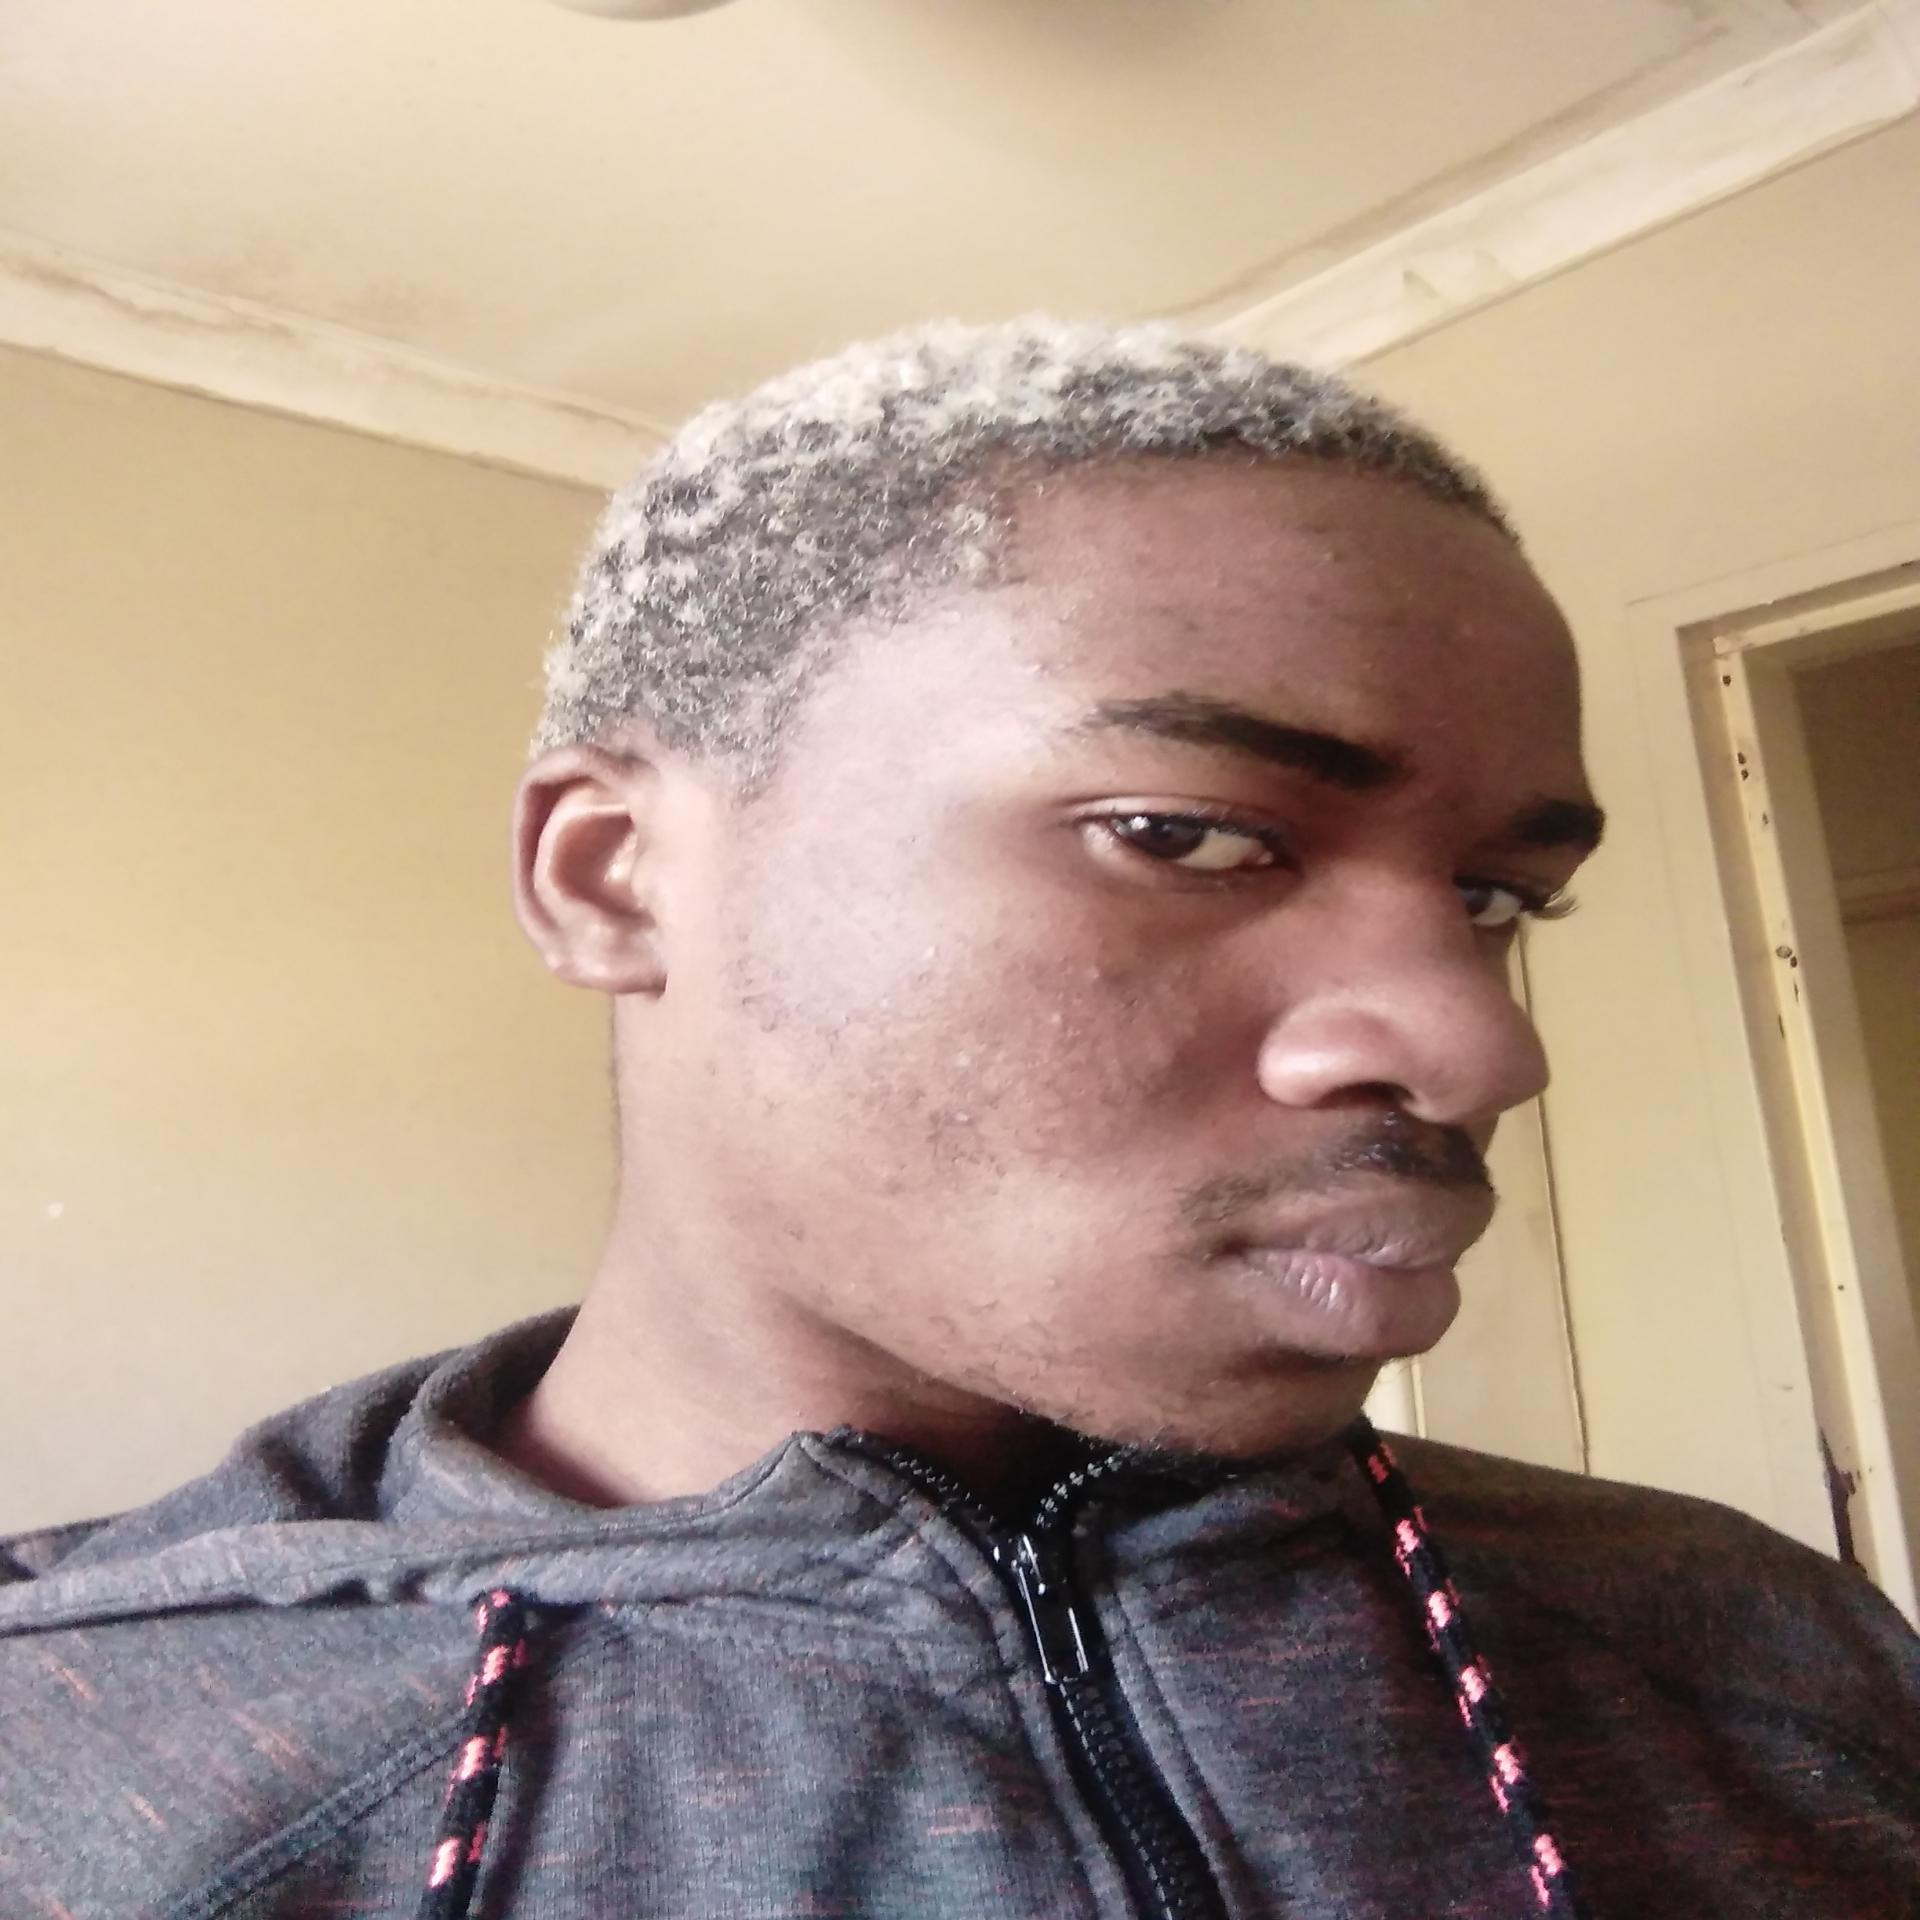Acne: (1155, 993, 1210, 1073), (1125, 531, 1169, 570), (1155, 600, 1210, 629), (863, 1173, 909, 1206), (1278, 522, 1343, 542), (1013, 1308, 1065, 1329), (1452, 615, 1486, 645), (1294, 589, 1327, 619), (1055, 647, 1092, 673), (1131, 652, 1160, 680), (1041, 1006, 1071, 1032), (948, 1048, 978, 1074), (1022, 656, 1048, 686), (1048, 601, 1080, 624), (1347, 656, 1378, 679), (1203, 570, 1231, 593), (1080, 962, 1109, 983), (1032, 1268, 1067, 1285), (951, 1106, 978, 1129), (921, 935, 942, 964), (997, 631, 1025, 652), (1327, 547, 1347, 566)
Englarged Pores: (911, 964, 1169, 1160)
